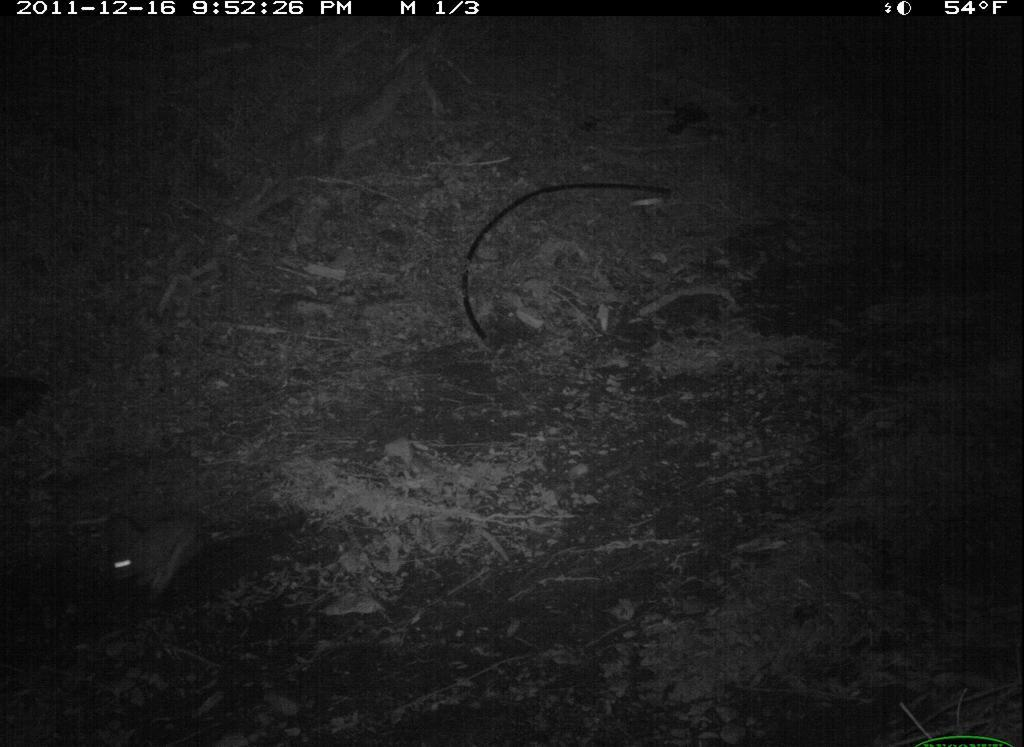rabbit: (97, 498, 225, 624)
